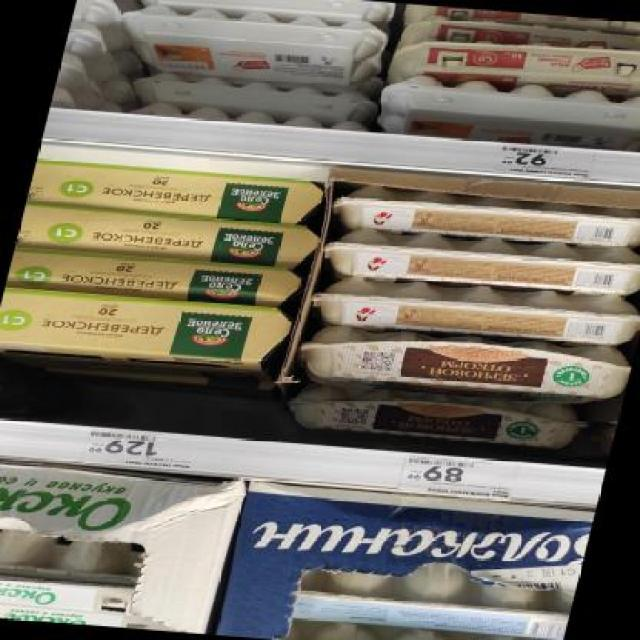egg: (291, 322, 634, 404), (106, 1, 392, 90), (282, 380, 598, 454), (386, 31, 640, 100), (0, 525, 150, 615), (398, 15, 639, 63)
